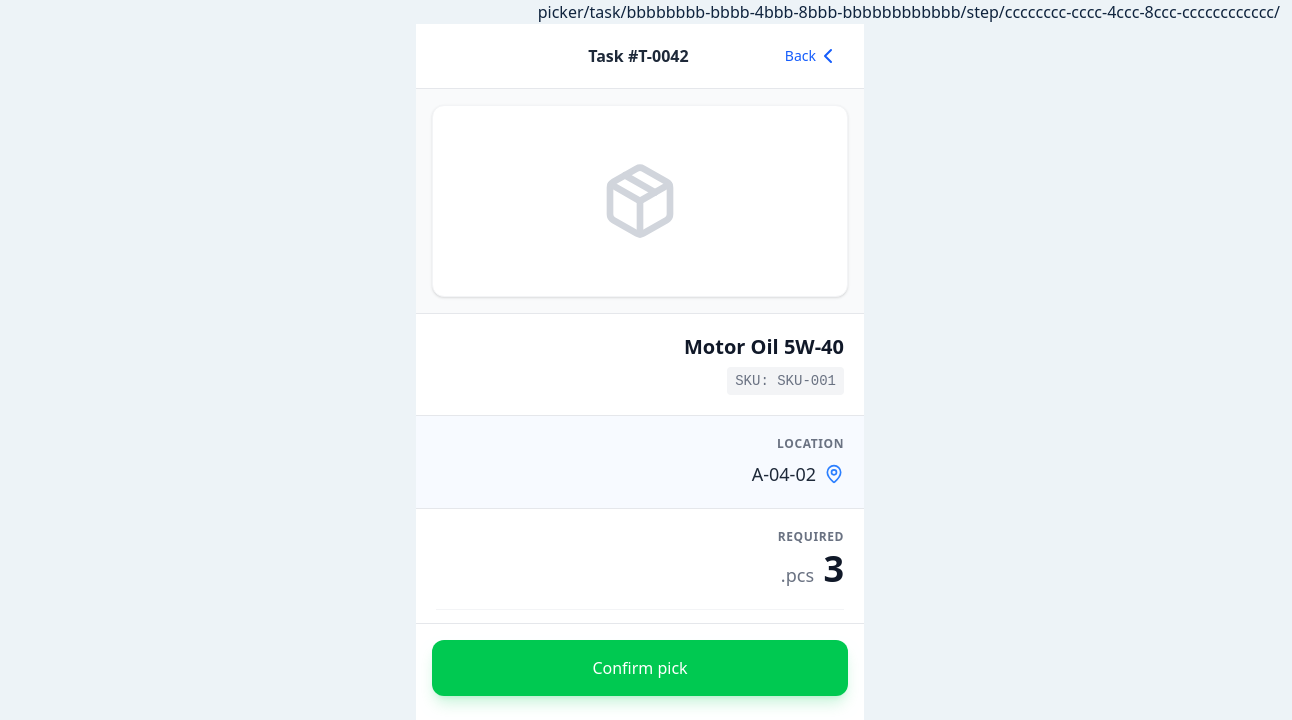
Test: PickStepPage › confirm conflict shows a visible error message
Click the button with test id "pick-step-confirm".
click(640, 668)  # box [432,640,848,696]
(page scrolled)
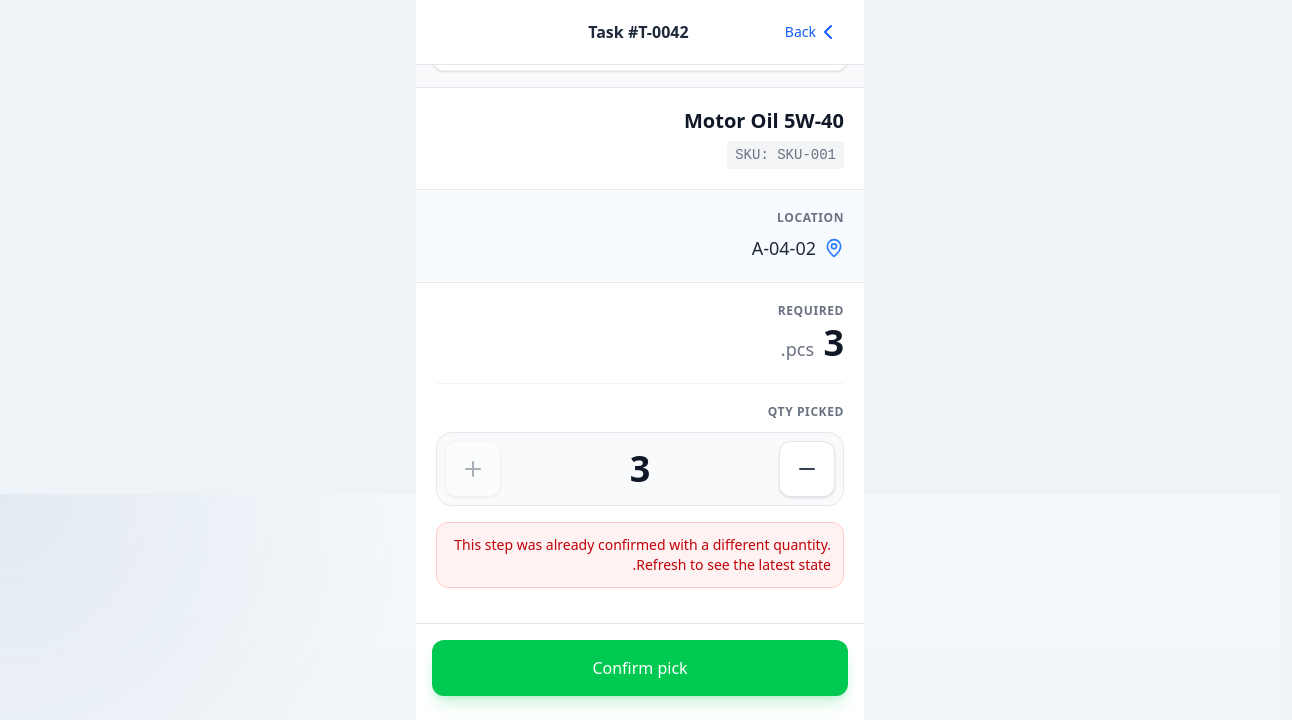
Check: the element with test id "pick-step-error" is shown, box [436,522,844,588]
Check: the element with test id "pick-step-error" shows "already confirmed", box [454,535,831,574]
